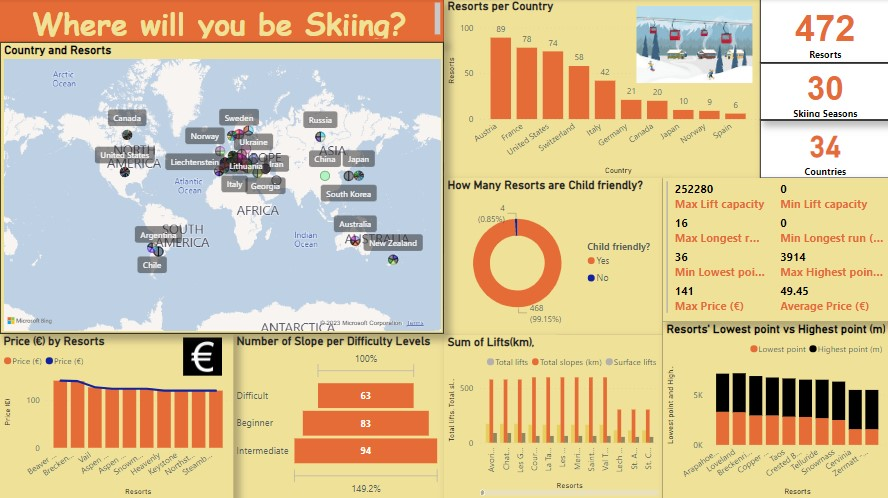

Layout of this report page (visuals, bound fields, positions):
{"tool":"powerbi","page":{"name":"Page 1","canvas":[1280,720],"ordinal":0},"visuals":[{"type":"clusteredColumnChart","title":"Resorts per Country","fields":{"Y":["resorts.Resorts"],"Category":["resorts.Country"]},"box":[639.4,0,455,257.8],"z":0},{"type":"donutChart","title":"How Many Resorts are Child friendly?","fields":{"Y":["resorts.Child friendly"],"Category":["resorts.Child friendly"]},"box":[639.4,257.8,315.4,226.1],"z":1000},{"type":"funnel","title":"Number of Slope per Difficulty Levels","fields":{"Y":["resorts.Difficult slopes (km)","resorts.Beginner slopes (km)","resorts.Intermediate slopes (km)"]},"box":[335.5,482.4,303.8,237.6],"z":2000},{"type":"lineClusteredColumnComboChart","title":"Price (€) by Resorts","fields":{"Category":["resorts.Resorts"],"Y":["resorts.Price"],"Y2":["resorts.Price"]},"box":[0,482.4,335.5,237.6],"z":3000},{"type":"clusteredColumnChart","title":"Sum of Lifts(km),","fields":{"Y":["resorts.Total lifts","resorts.Total slopes (km)","resorts.Surface lifts"],"Category":["resorts.Resorts"]},"box":[639.4,483.8,315.4,236.2],"z":4000},{"type":"card","fields":{"Values":["resorts.Resorts"]},"box":[1094.4,0,185.8,92.2],"z":5000},{"type":"card","fields":{"Values":["resorts.Country"]},"box":[1094.4,174.2,185.8,83.5],"z":6000},{"type":"columnChart","title":"Resorts'' Lowest point vs Highest point (m)","fields":{"Category":["resorts.Resorts"],"Y":["resorts.Lowest point","resorts.Highest point (m)"]},"box":[954.7,465.1,325.4,254.9],"z":7000},{"type":"card","fields":{"Values":["resorts.Season"]},"box":[1094.4,92.2,185.8,82.1],"z":8000},{"type":"multiRowCard","fields":{"Values":["resorts.Lift capacity","Sum(resorts.Lift capacity)1","resorts.Longest run (km)","Sum(resorts.Longest run (km))1","Sum(resorts.Lowest point)1","resorts.Highest point (m)","resorts.Price","Sum(resorts.Price)1"]},"box":[954.7,257.8,325.4,207.4],"z":9000},{"type":"image","box":[247.7,482.4,87.8,64.8],"z":11000},{"type":"image","box":[911.5,0,177.1,129.6],"z":12000},{"type":"textbox","box":[0,0,639.4,61.9],"z":12001},{"type":"map","fields":{"Category":["resorts.Country"],"Series":["resorts.Resorts"]},"box":[0,61.9,639.4,420.5],"z":12002}]}

Visuals, with their boxes in screenshot pixels (x1, y1, x2, y2), scaled from the page's 1280x720 canvas onto the 888x498 screenshot:
"Resorts per Country" clusteredColumnChart: [x1=444, y1=0, x2=759, y2=178]
"How Many Resorts are Child friendly?" donutChart: [x1=444, y1=178, x2=662, y2=335]
"Number of Slope per Difficulty Levels" funnel: [x1=233, y1=334, x2=444, y2=497]
"Price (€) by Resorts" lineClusteredColumnComboChart: [x1=0, y1=334, x2=233, y2=497]
"Sum of Lifts(km)," clusteredColumnChart: [x1=444, y1=335, x2=662, y2=497]
card - resorts.Resorts: [x1=759, y1=0, x2=887, y2=64]
card - resorts.Country: [x1=759, y1=120, x2=887, y2=178]
"Resorts'' Lowest point vs Highest point (m)" columnChart: [x1=662, y1=322, x2=887, y2=497]
card - resorts.Season: [x1=759, y1=64, x2=887, y2=121]
multiRowCard - resorts.Lift capacity x Sum(resorts.Lift capacity)1: [x1=662, y1=178, x2=887, y2=322]
image: [x1=172, y1=334, x2=233, y2=378]
image: [x1=632, y1=0, x2=755, y2=90]
textbox: [x1=0, y1=0, x2=444, y2=43]
map - resorts.Country x resorts.Resorts: [x1=0, y1=43, x2=444, y2=334]
